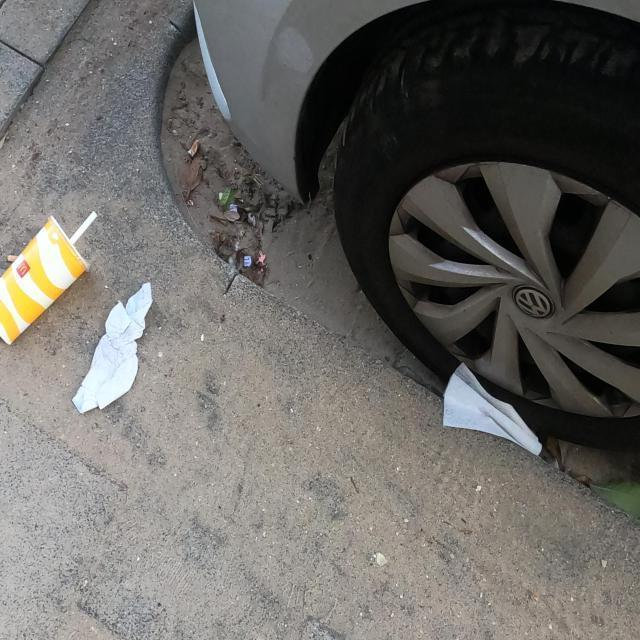Cup: (0, 208, 99, 347)
Paper: (70, 277, 156, 418), (442, 361, 542, 457)
